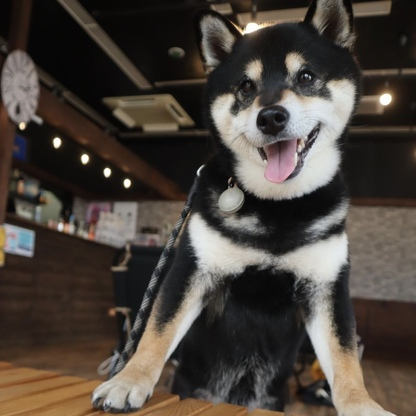shiba: (83, 1, 403, 412)
